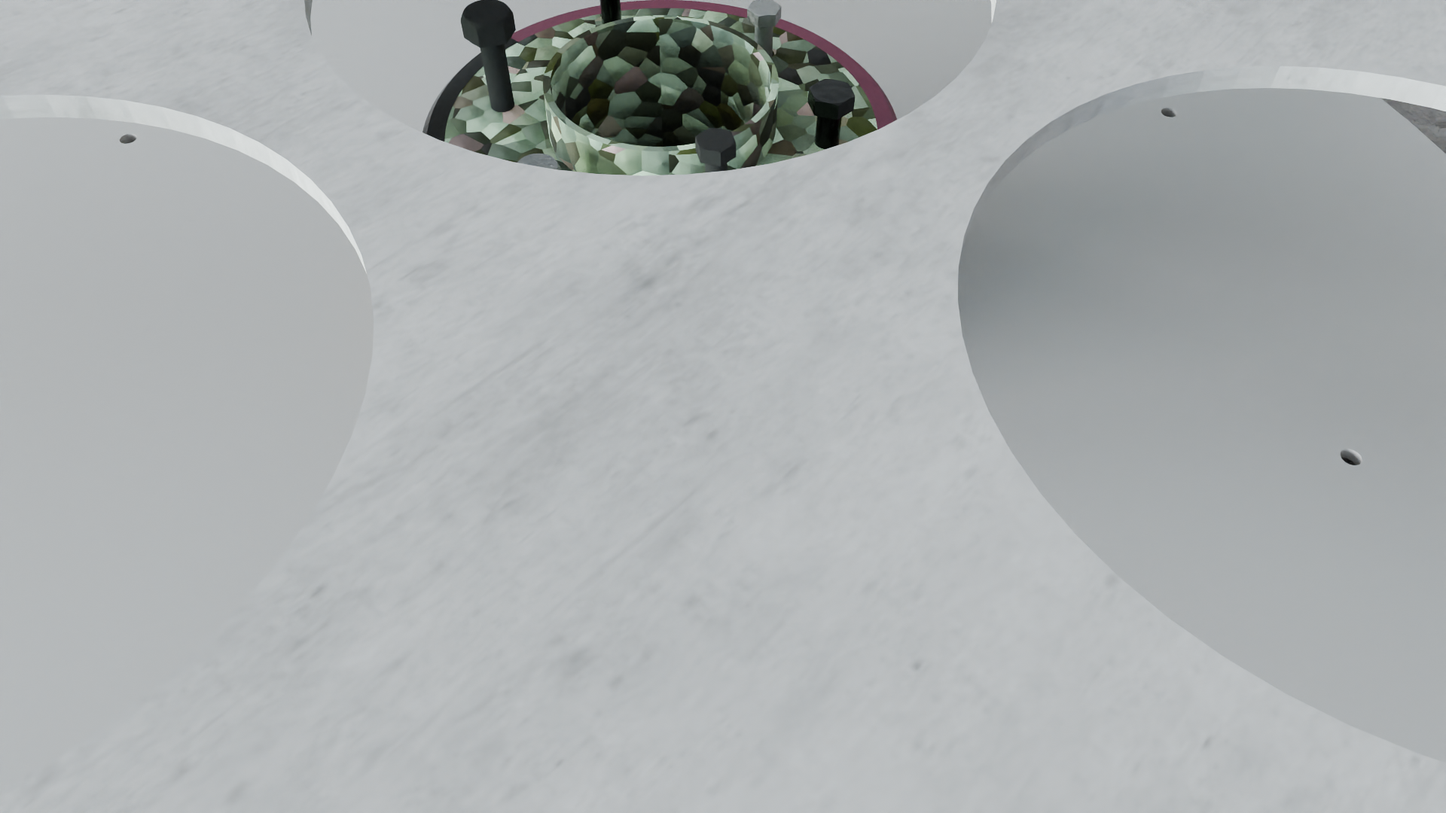bolt: (461, 0, 513, 30), (809, 79, 855, 106), (695, 128, 736, 154), (517, 154, 562, 169), (747, 0, 782, 17)
